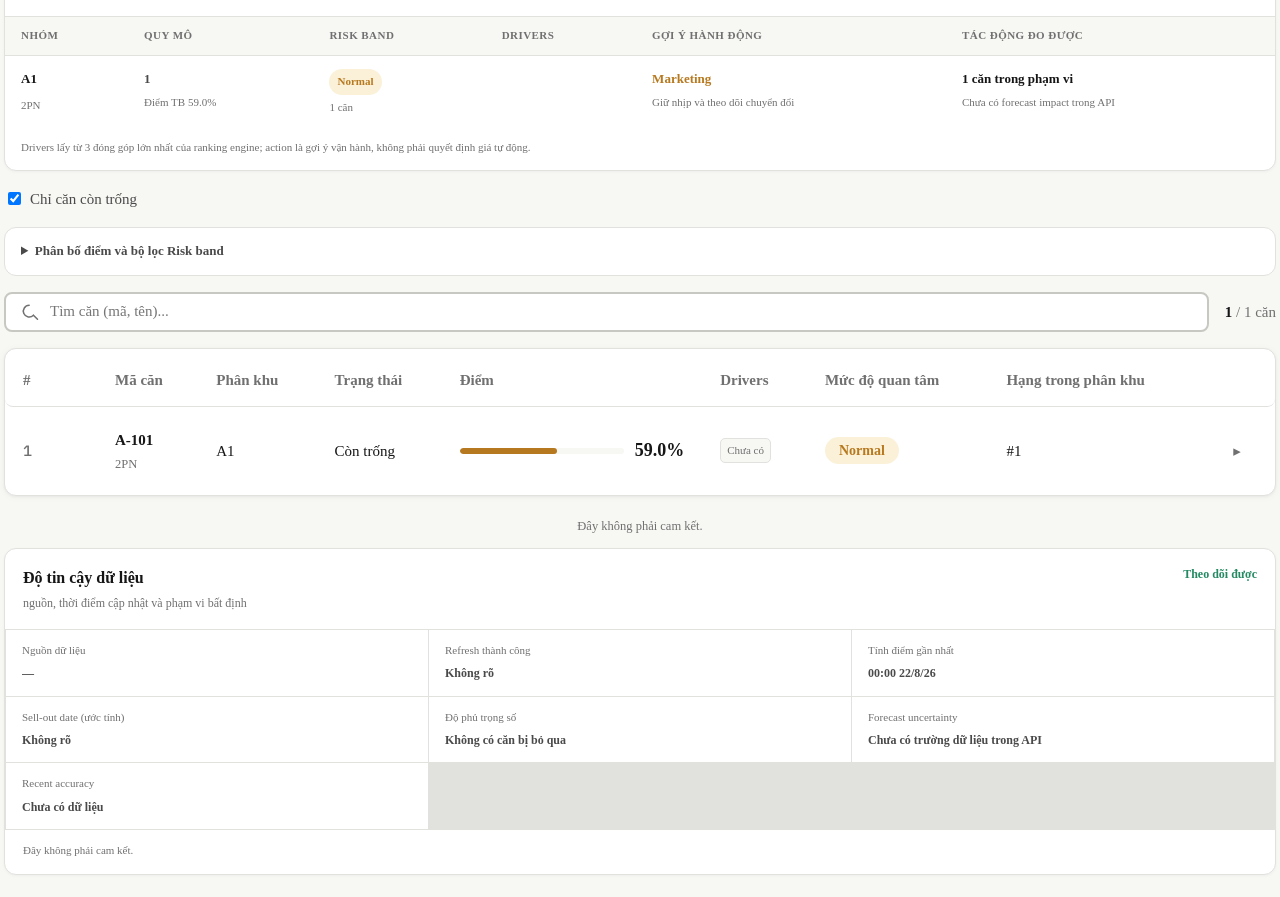
Test: RankingPage — hierarchical disclosure (PR-7) › shows the unit-only badge and mandatory disclosure
(page scrolled)
Step 1. Click the text "A-101" → (640, 451), box left=5, top=412, right=1275, bottom=490
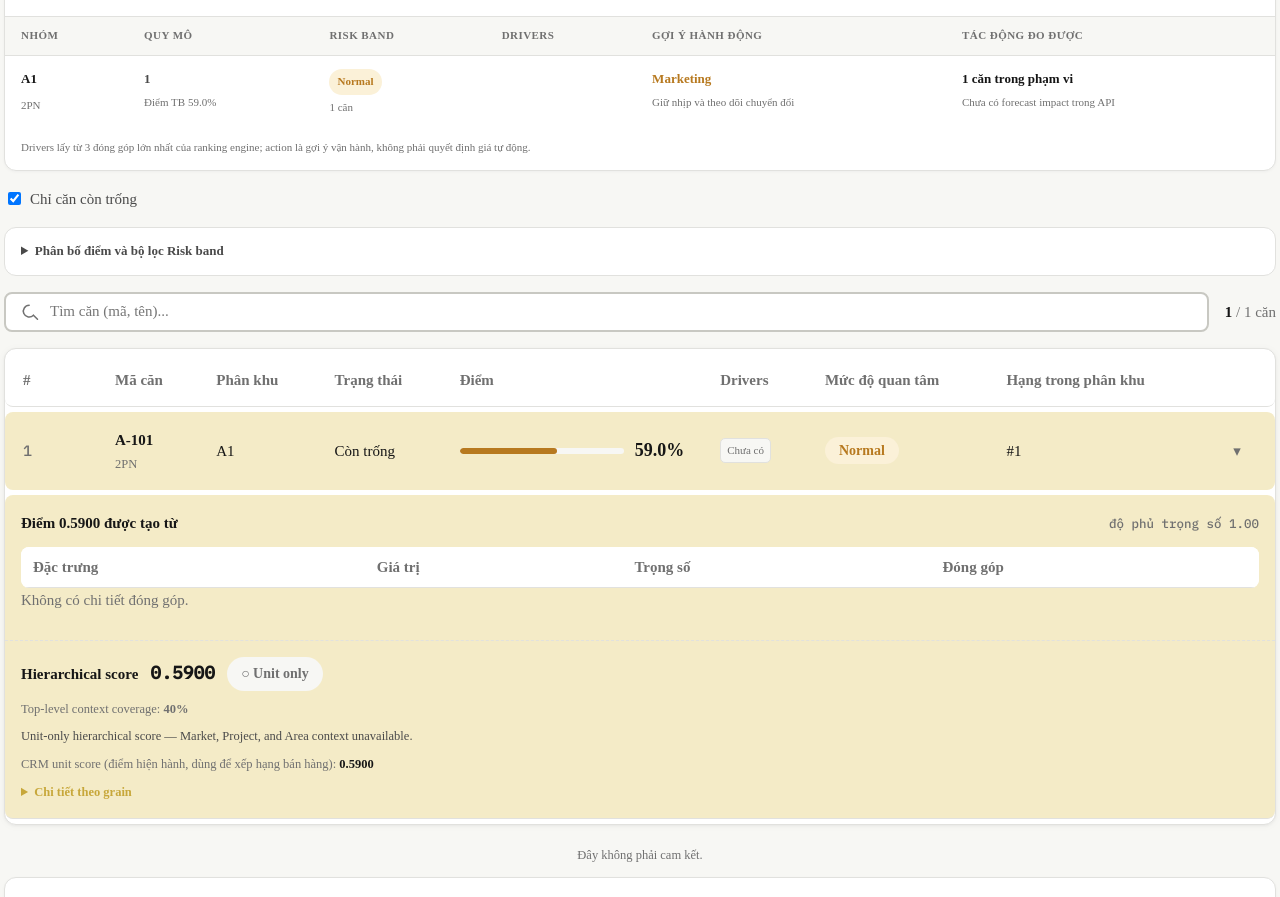
Expected: the text "Hierarchical score" is shown, left=21, top=662, right=138, bottom=686
Expected: the text "Unit only" is shown, left=253, top=666, right=309, bottom=681
Expected: the text "○" is shown, left=241, top=666, right=250, bottom=681
